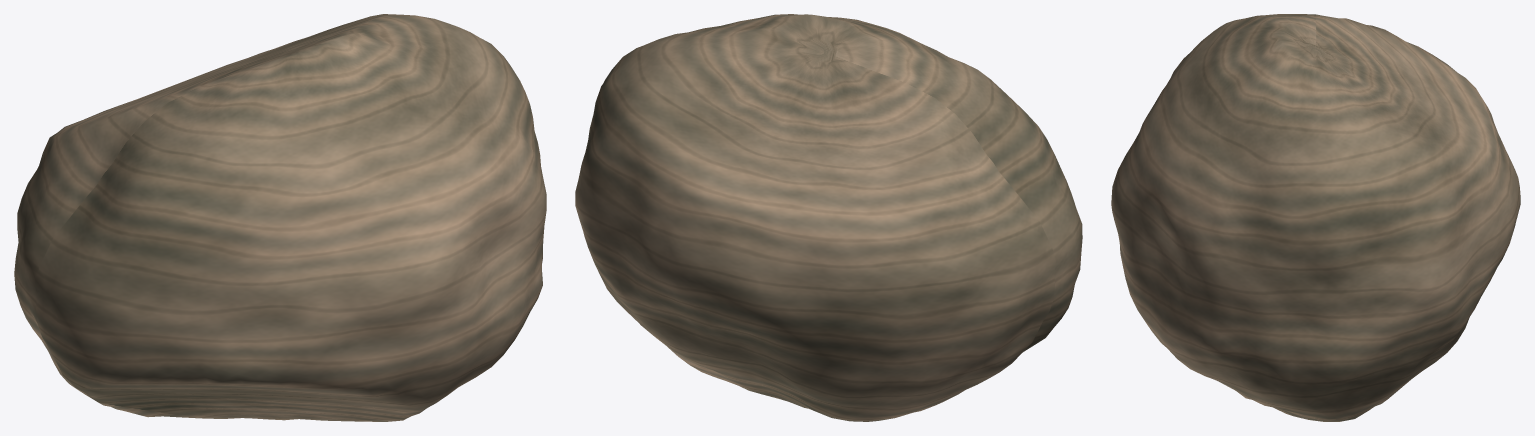
The model's file is PZ_R05_Rounded_River_Boulder_Sediment.glb.
The picture shows the model from 3 angles, left to right: view 1: azimuth 30°, elevation 25°; view 2: azimuth 150°, elevation 25°; view 3: azimuth 270°, elevation 25°; orthographic projection. The views are drawn at different scales.
Visible parts, largest first — view 1: RENDER_R05_Rounded_River_Boulder_Sediment; view 2: RENDER_R05_Rounded_River_Boulder_Sediment; view 3: RENDER_R05_Rounded_River_Boulder_Sediment.
Part boxes in pixels (<box>): RENDER_R05_Rounded_River_Boulder_Sediment: <box>14,14,546,421</box>; RENDER_R05_Rounded_River_Boulder_Sediment: <box>575,14,1082,421</box>; RENDER_R05_Rounded_River_Boulder_Sediment: <box>1111,14,1520,421</box>.
Size of the model in its own units: 1.35 by 0.96 by 1.09.
Materials: 1 (1 with a texture image).
